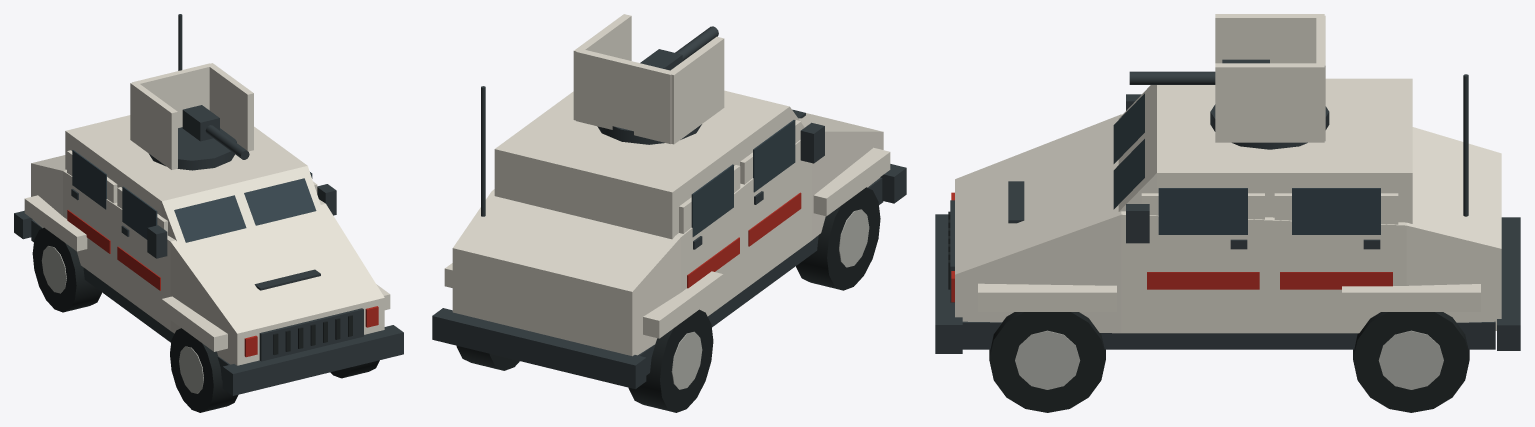
The picture shows the model from 3 angles, left to right: view 1: azimuth 30°, elevation 25°; view 2: azimuth 150°, elevation 25°; view 3: azimuth 270°, elevation 25°; orthographic projection. The views are drawn at different scales.
Visible parts, largest first — view 1: humvee-fleet-armor, humvee-fleet-machine, turret-fleet-armor, humvee-fleet-glass, wheel--1--1.54-fleet-rubber, wheel--1-1.52-fleet-rubber, humvee-fleet-red, turret-fleet-machine, barrel-fleet-machine, wheel--1--1.54-fleet-edge, wheel--1-1.52-fleet-edge, humvee-fleet-rubber (+1 smaller); view 2: humvee-fleet-armor, turret-fleet-armor, humvee-fleet-machine, wheel--1-1.52-fleet-rubber, wheel--1--1.54-fleet-rubber, humvee-fleet-glass, humvee-fleet-red, wheel--1-1.52-fleet-edge, wheel--1--1.54-fleet-edge, barrel-fleet-machine, wheel-1--1.54-fleet-rubber, turret-fleet-machine; view 3: humvee-fleet-armor, humvee-fleet-machine, turret-fleet-armor, humvee-fleet-glass, wheel-1-1.52-fleet-rubber, wheel-1--1.54-fleet-rubber, humvee-fleet-red, wheel-1--1.54-fleet-edge, wheel-1-1.52-fleet-edge, barrel-fleet-machine, turret-fleet-machine.
Part boxes in pixels (box(x1,y1,x2,y2)): humvee-fleet-armor: box(24, 115, 390, 365); humvee-fleet-machine: box(14, 14, 403, 395); turret-fleet-armor: box(130, 63, 253, 169); humvee-fleet-glass: box(72, 150, 316, 242); wheel--1--1.54-fleet-rubber: box(32, 227, 101, 312); wheel--1-1.52-fleet-rubber: box(170, 328, 238, 412); humvee-fleet-red: box(67, 210, 378, 357); turret-fleet-machine: box(149, 127, 236, 170); barrel-fleet-machine: box(182, 105, 249, 159); wheel--1--1.54-fleet-edge: box(41, 246, 66, 293); wheel--1-1.52-fleet-edge: box(179, 346, 203, 393); humvee-fleet-rubber: box(273, 315, 352, 354); humvee-fleet-armor: box(444, 90, 890, 356); turret-fleet-armor: box(573, 14, 724, 144); humvee-fleet-machine: box(432, 86, 906, 389); wheel--1-1.52-fleet-rubber: box(796, 187, 880, 290); wheel--1--1.54-fleet-rubber: box(628, 309, 713, 412); humvee-fleet-glass: box(691, 120, 795, 236); humvee-fleet-red: box(687, 192, 801, 288); wheel--1-1.52-fleet-edge: box(839, 209, 869, 267); wheel--1--1.54-fleet-edge: box(671, 331, 702, 389); barrel-fleet-machine: box(640, 26, 718, 70); wheel-1--1.54-fleet-rubber: box(456, 346, 519, 370); turret-fleet-machine: box(597, 124, 701, 144); humvee-fleet-armor: box(955, 78, 1501, 333); humvee-fleet-machine: box(935, 74, 1520, 353); turret-fleet-armor: box(1215, 14, 1325, 142); humvee-fleet-glass: box(1113, 93, 1380, 234); wheel-1-1.52-fleet-rubber: box(989, 312, 1105, 412); wheel-1--1.54-fleet-rubber: box(1353, 312, 1469, 412); humvee-fleet-red: box(951, 192, 1392, 302); wheel-1--1.54-fleet-edge: box(1378, 330, 1443, 389); wheel-1-1.52-fleet-edge: box(1015, 330, 1080, 389); barrel-fleet-machine: box(1129, 59, 1269, 84); turret-fleet-machine: box(1210, 104, 1329, 149).
Size of the model in its own units: 12.64 by 16.35 by 26.84.
